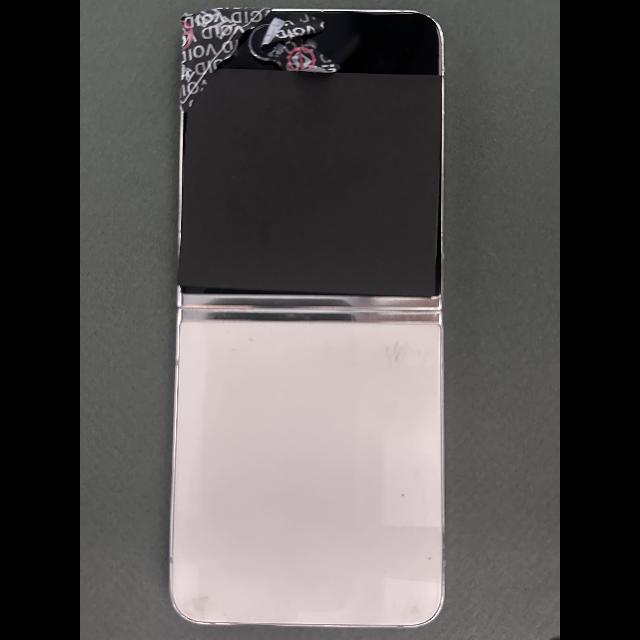lens: (249, 25, 270, 60), (224, 41, 238, 59)
phone: (168, 8, 446, 628)
sticker: (179, 7, 273, 113), (260, 11, 340, 73)
